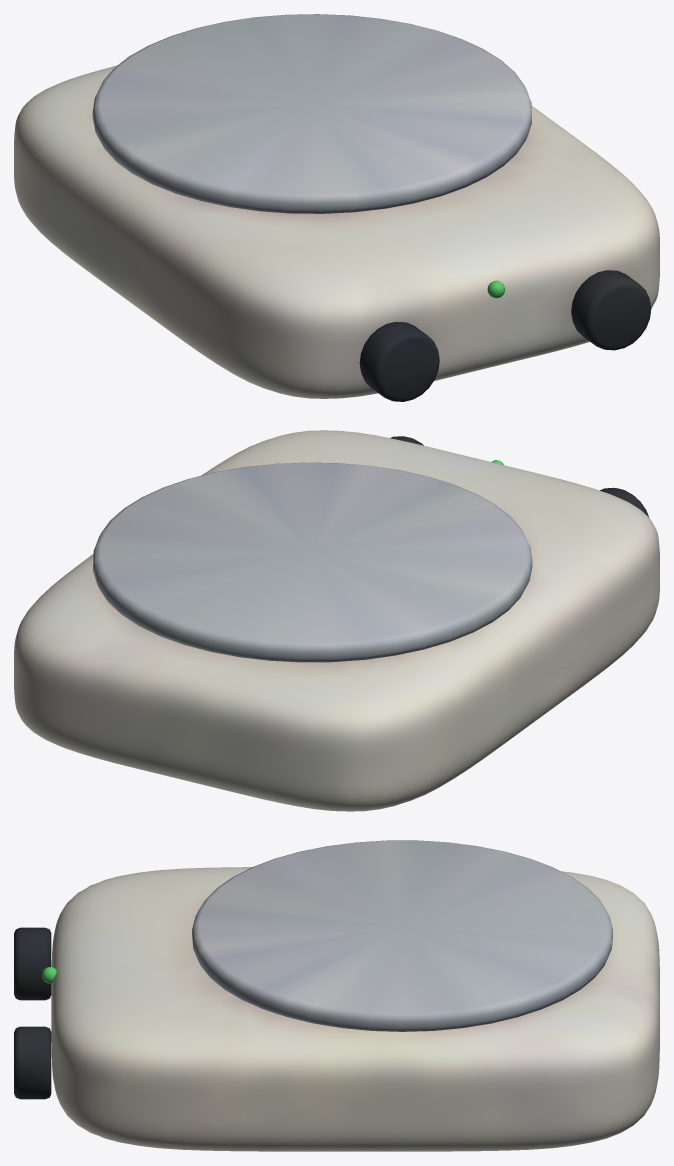
The model's file is hot-plate-stirrer.glb.
The picture shows the model from 3 angles, top to bottom: view 1: azimuth 30°, elevation 25°; view 2: azimuth 150°, elevation 25°; view 3: azimuth 270°, elevation 25°; orthographic projection. The views are drawn at different scales.
Visible parts, largest first — view 1: hot-plate-stirrer-body, hot-plate-stirrer-plate, hot-plate-stirrer-knobs; view 2: hot-plate-stirrer-body, hot-plate-stirrer-plate; view 3: hot-plate-stirrer-body, hot-plate-stirrer-plate, hot-plate-stirrer-knobs.
Part boxes in pixels (x1,y1,x2,y2): hot-plate-stirrer-body: (14, 65, 659, 398); hot-plate-stirrer-plate: (92, 14, 531, 213); hot-plate-stirrer-knobs: (359, 270, 651, 401); hot-plate-stirrer-body: (14, 430, 659, 811); hot-plate-stirrer-plate: (93, 462, 532, 662); hot-plate-stirrer-body: (51, 867, 659, 1151); hot-plate-stirrer-plate: (192, 840, 612, 1031); hot-plate-stirrer-knobs: (14, 927, 51, 1099).
Size of what is drawn, in the model's own units: 20 by 6.9 by 27.6.
